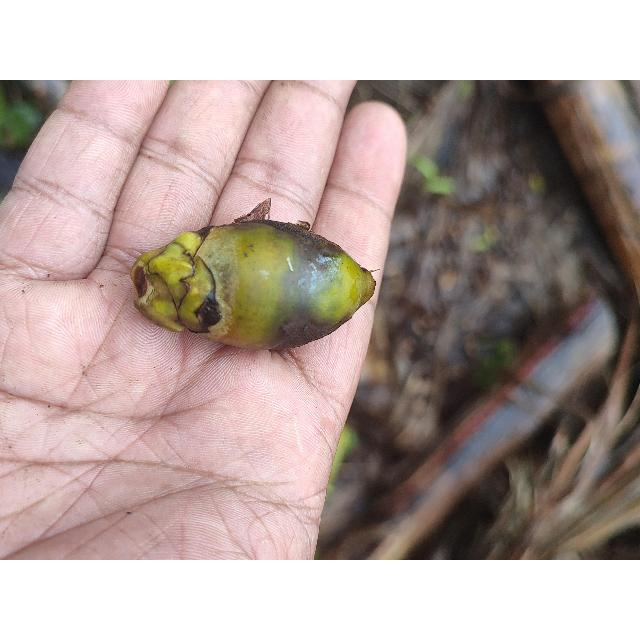damaged: (129, 216, 376, 353)
